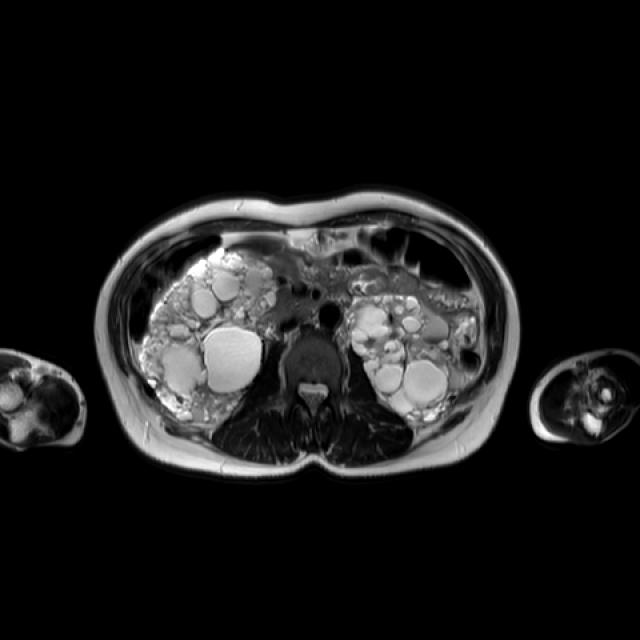sag: (141, 246, 276, 425)
sol: (354, 294, 451, 422)
